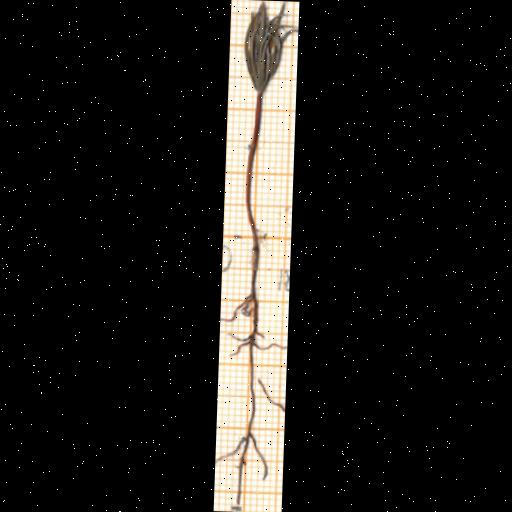flowerPinus: (243, 1, 297, 93)
rootPinus: (215, 247, 272, 506)
stemPinus: (246, 91, 263, 239)
